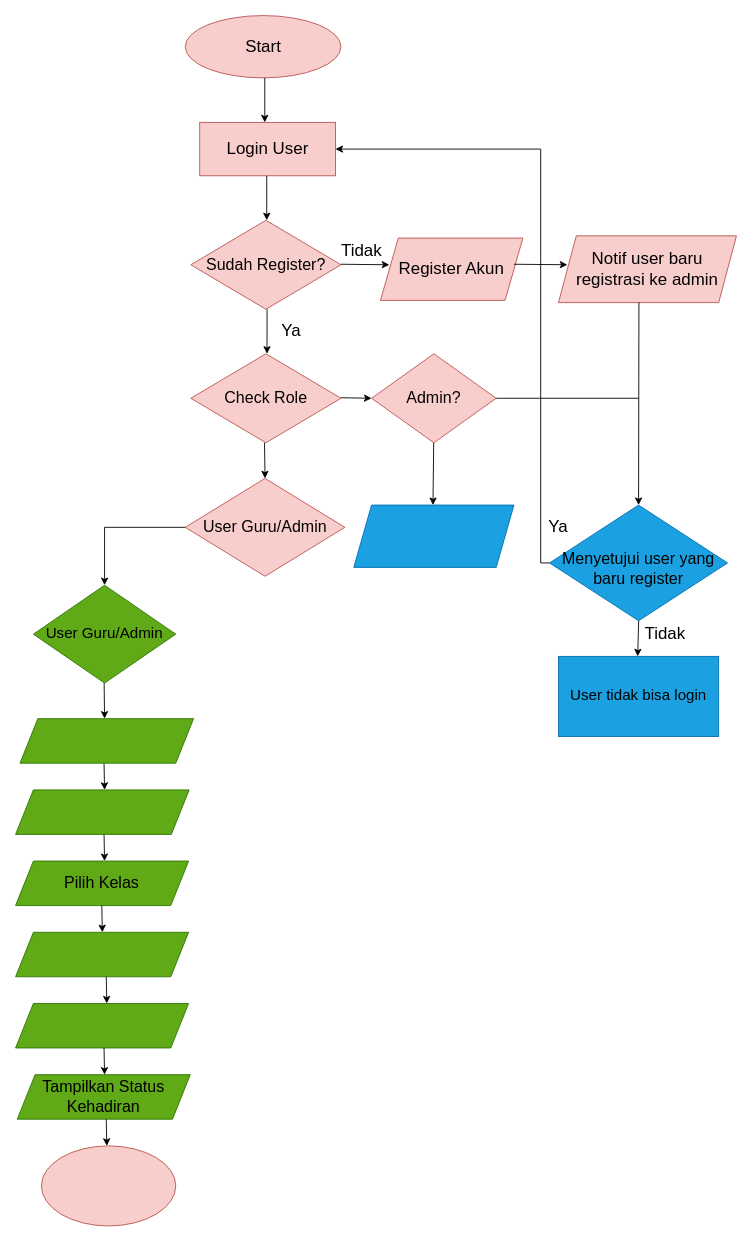
This 752x1242 diagram has some shape labels left out. Here are the shapes that lost their labels. From the top down, the centre of each, then its label:
(x=433, y=535): Mengelola Data Absensi
(x=106, y=740): Buka Menu Absensi
(x=102, y=811): Pilih Tanggal Absensi
(x=102, y=954): Isi Data Absensi
(x=102, y=1025): Simpan Data Absensi
(x=108, y=1185): End
